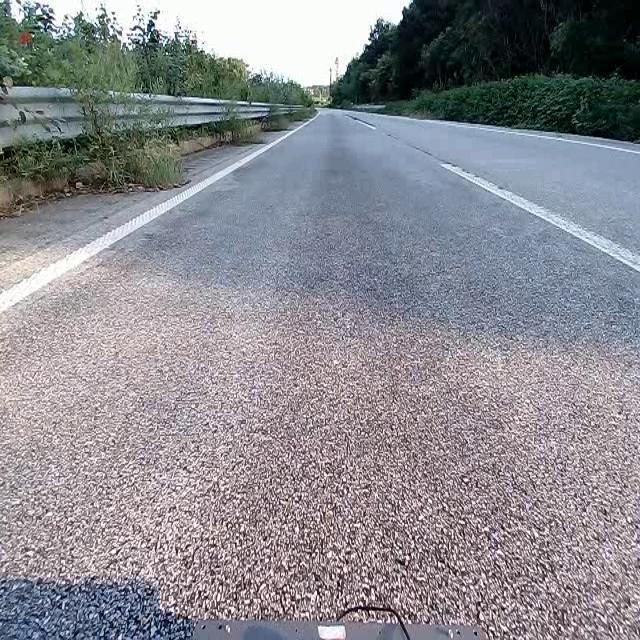Lane: (0, 103, 330, 315), (0, 113, 318, 314), (347, 110, 640, 278), (442, 162, 639, 272), (418, 120, 639, 154), (351, 116, 376, 128)
